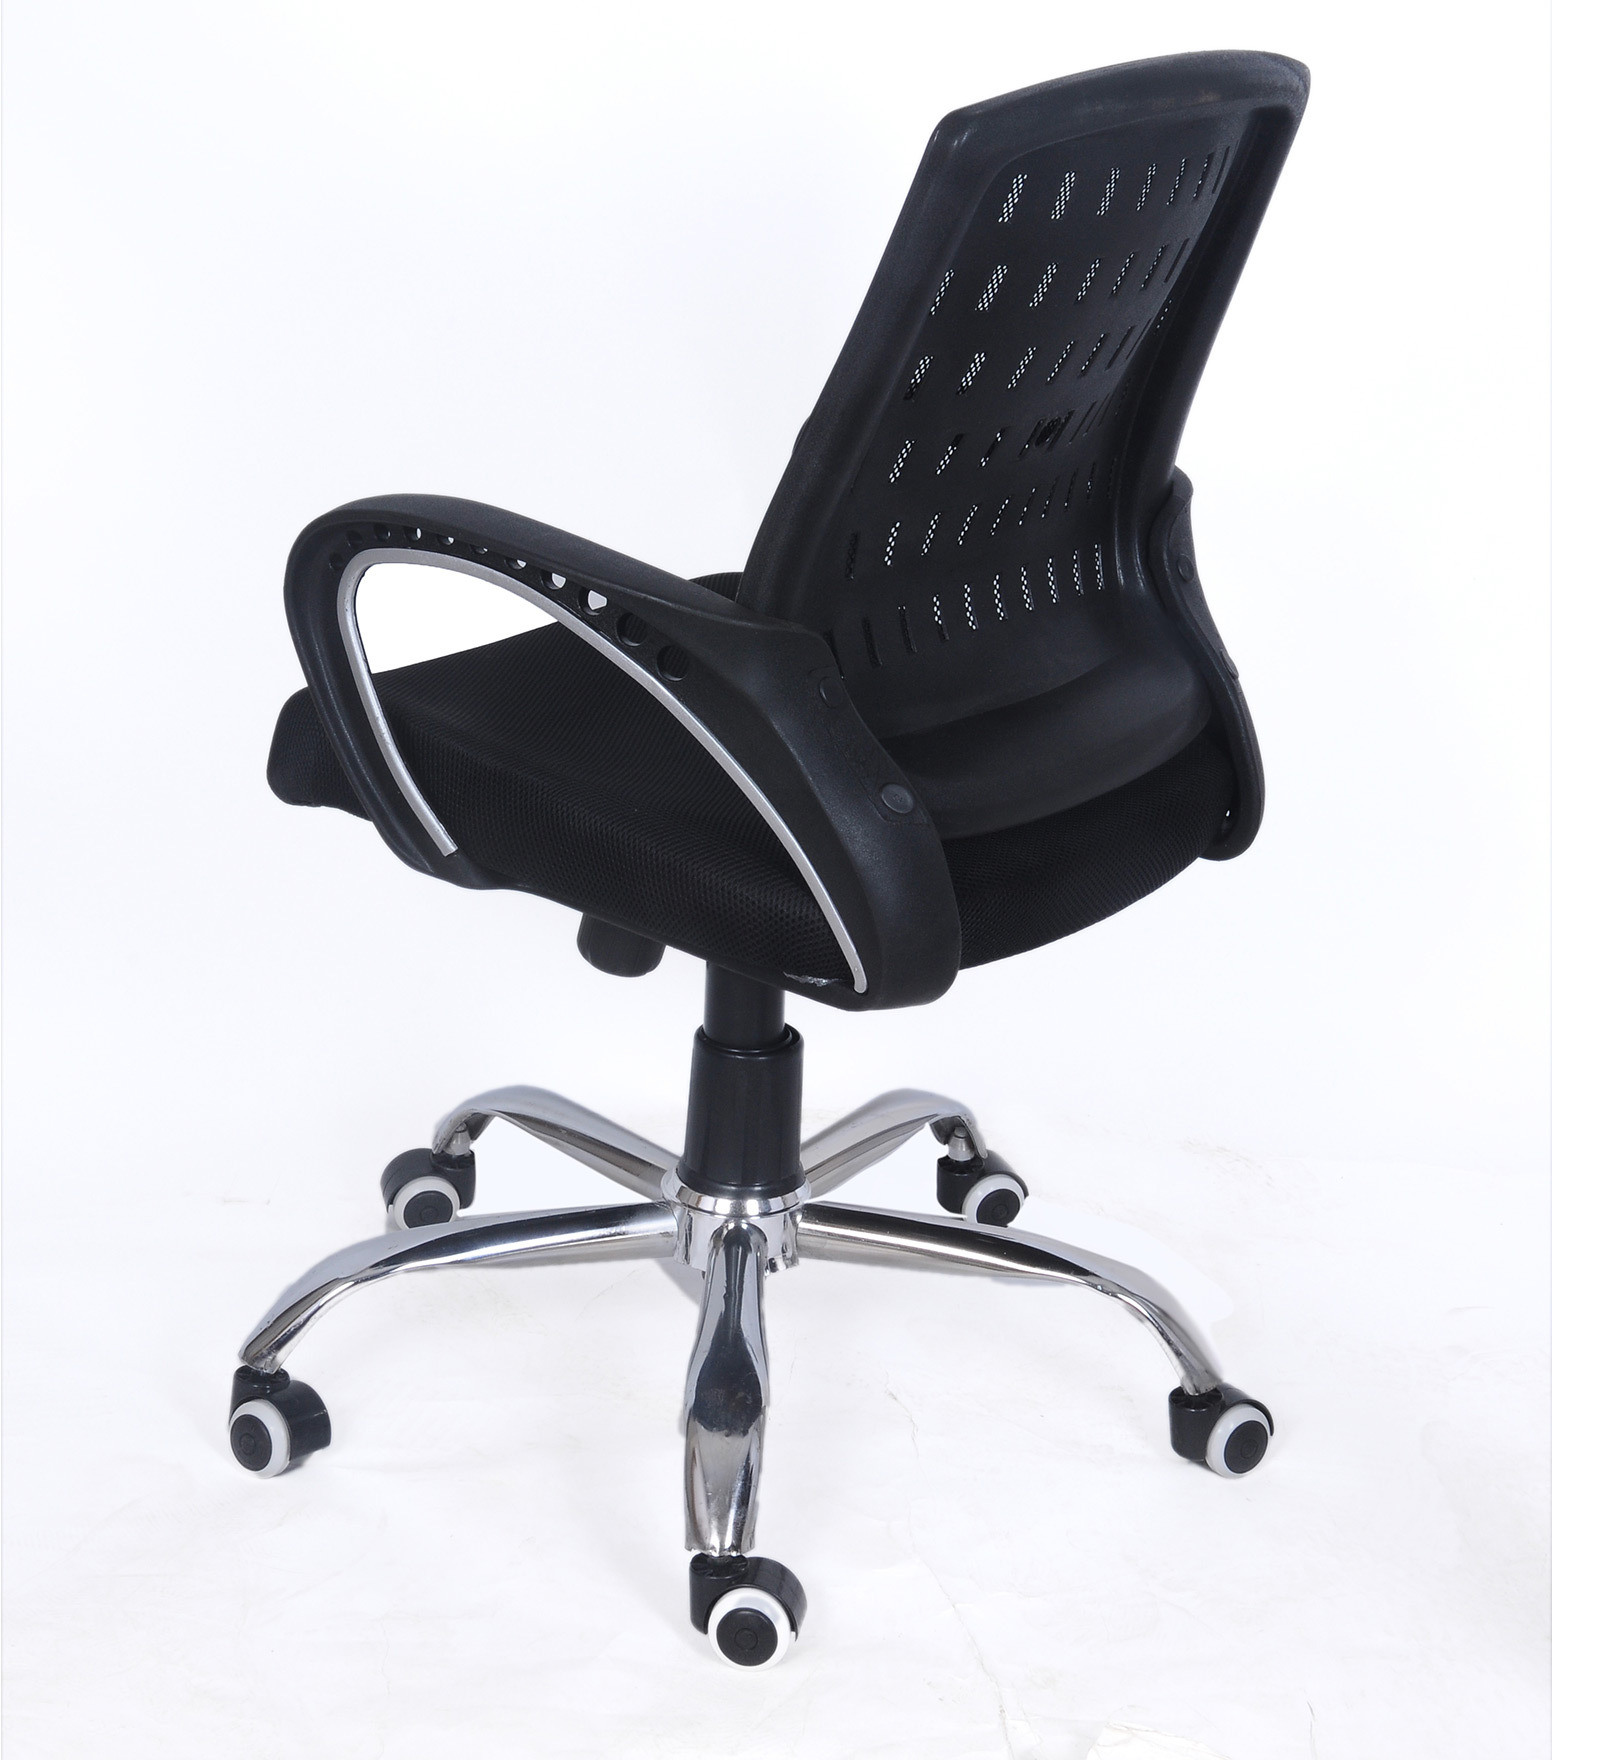Briny Mid Back Ergonomic Chair By Furniease: (199, 26, 1341, 1671)
